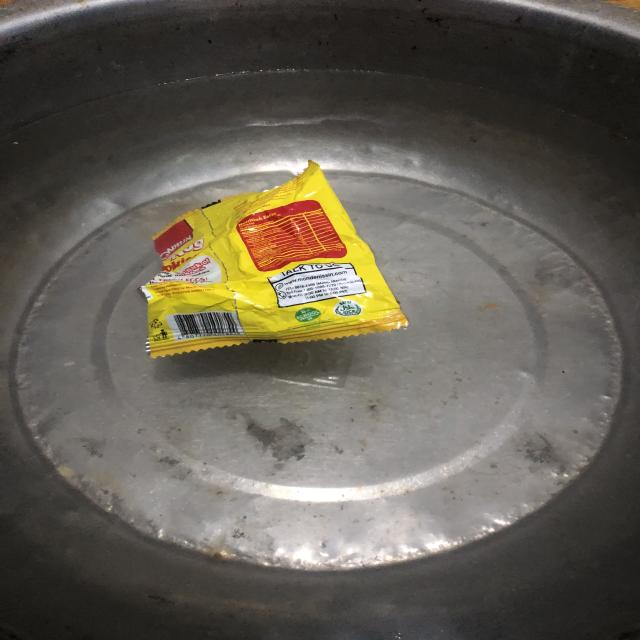Plastic Wrapper: (100, 147, 430, 386)
